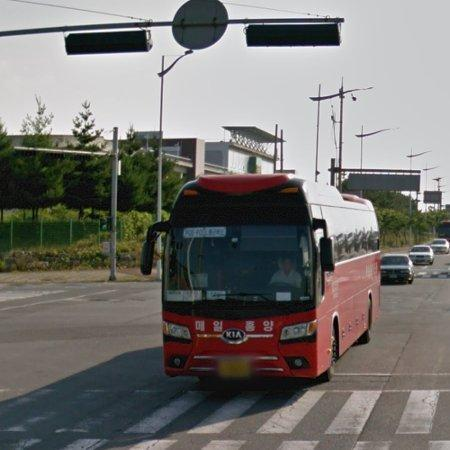buses: (141, 174, 381, 381)
